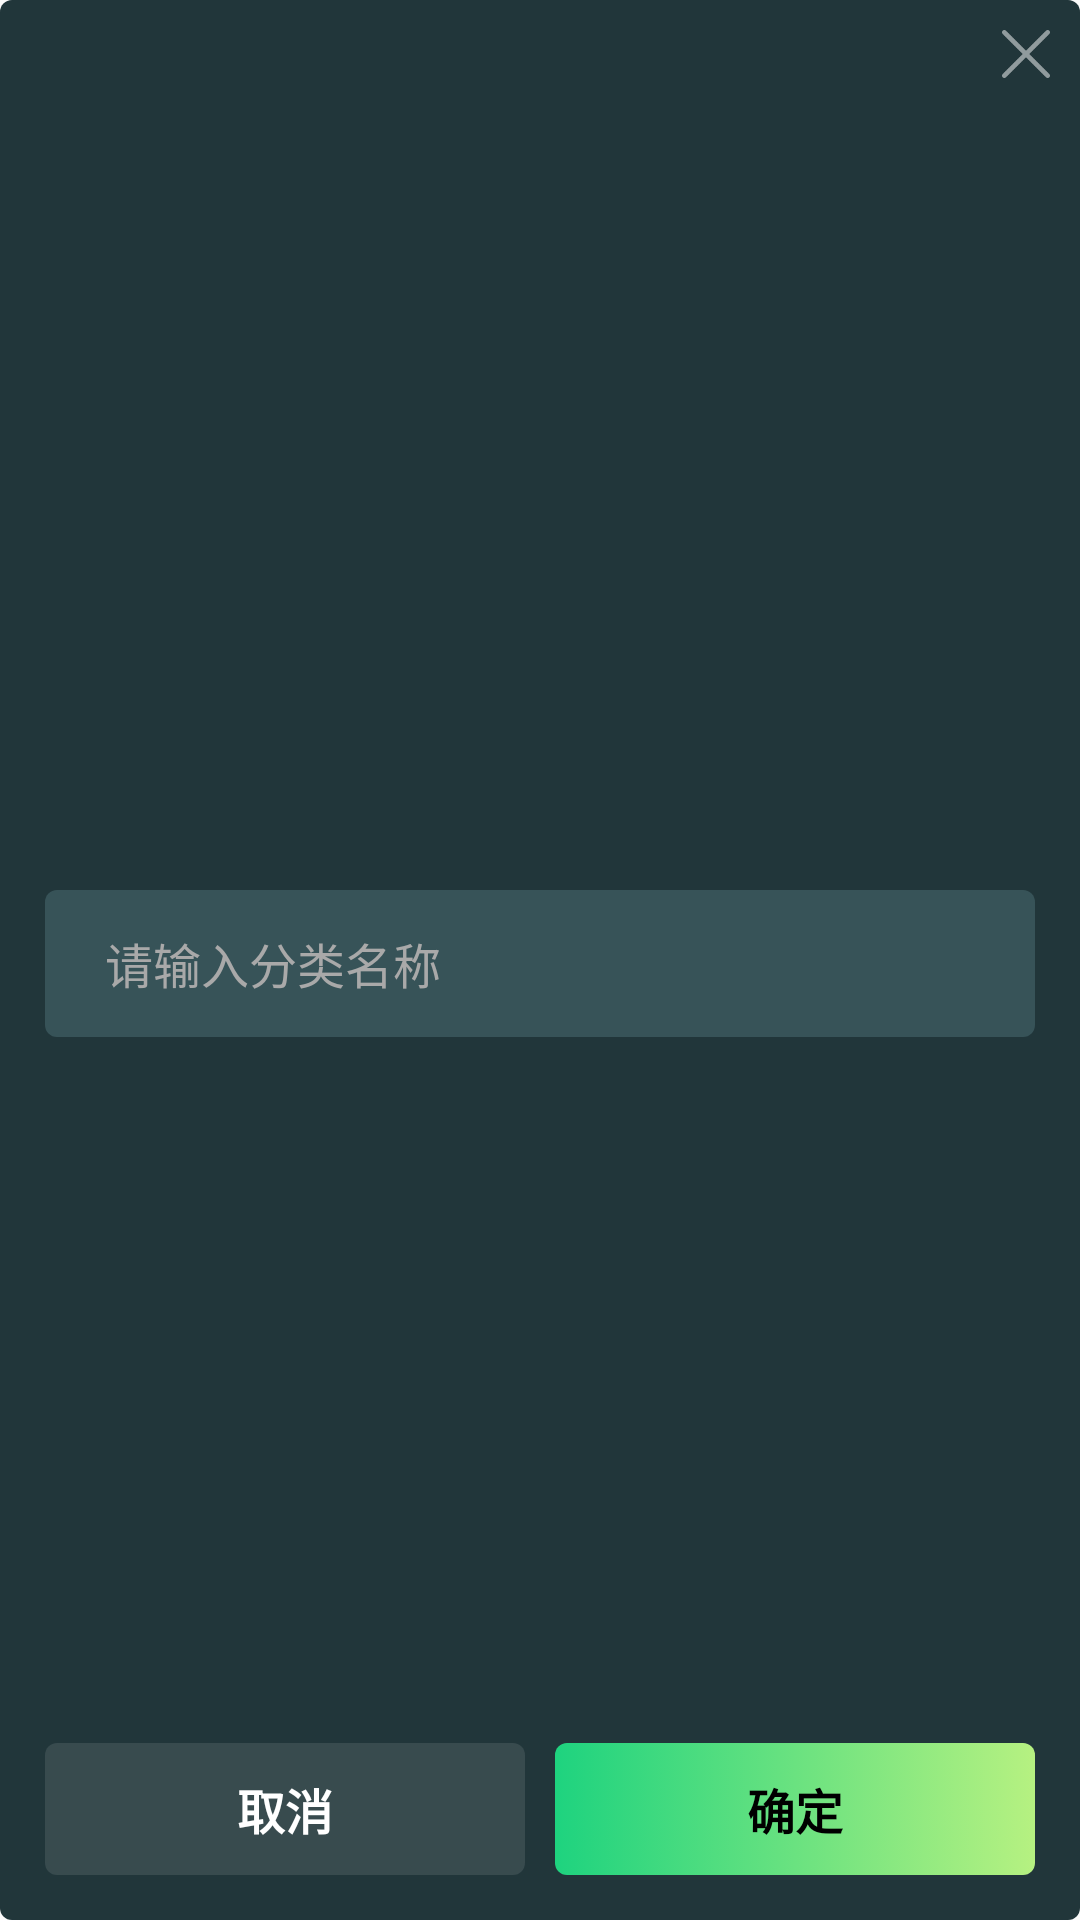

Icon bounding boxes for this 1080px×1920px phone screenshot, format (x1, y1, x2, y2):
close: (1002, 0, 1080, 78)
